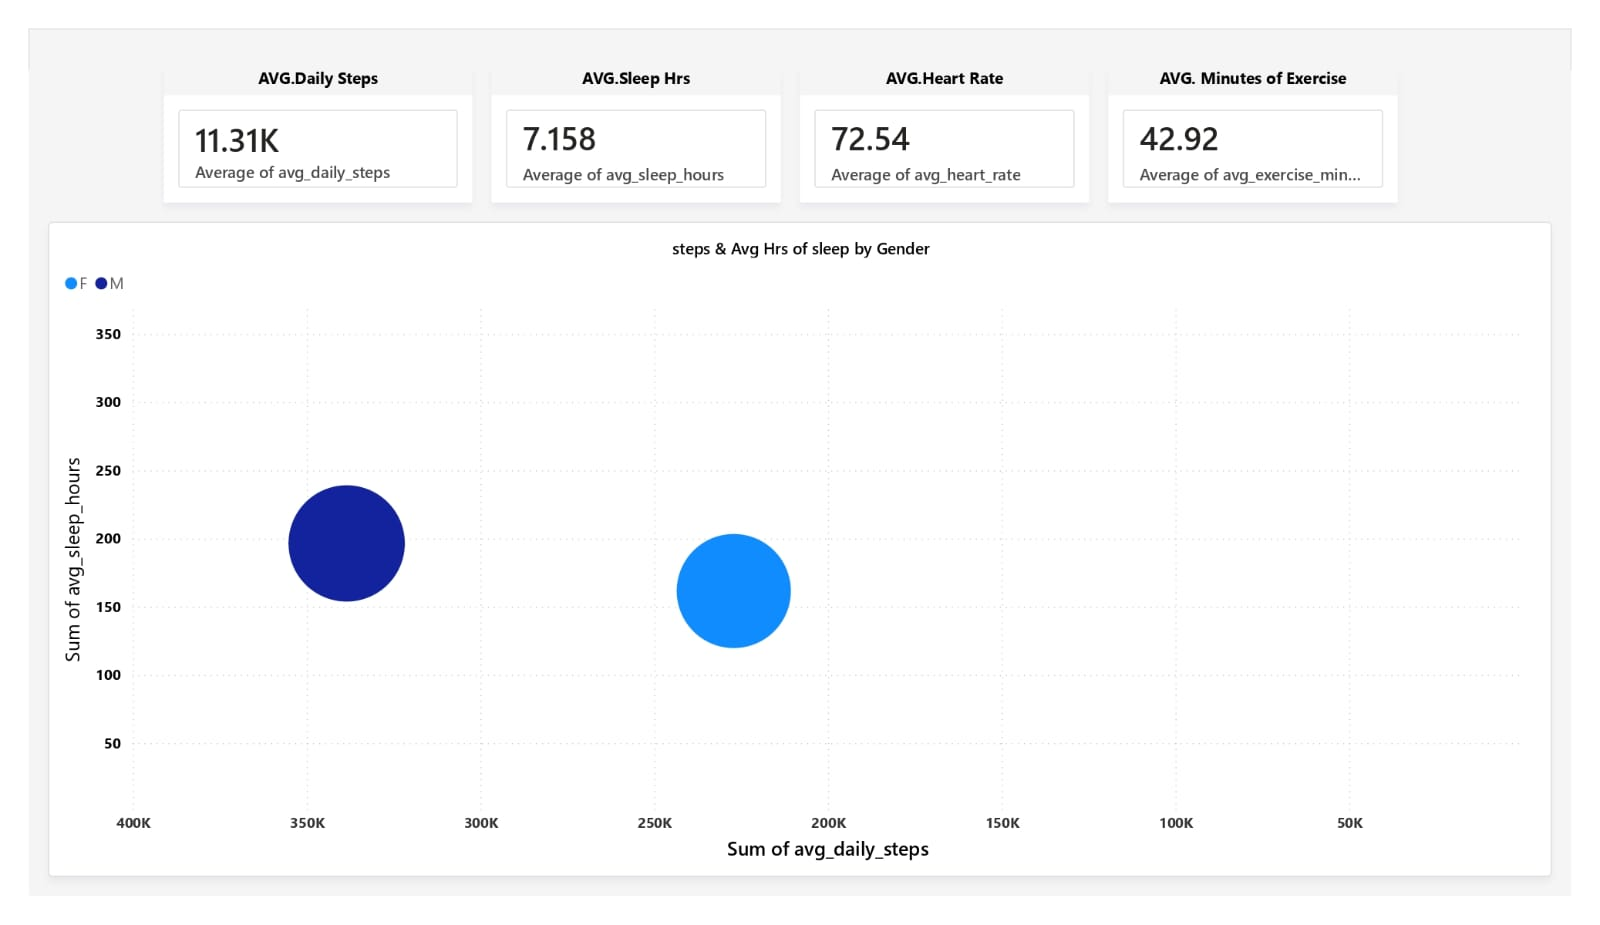

Layout of this report page (visuals, bound fields, positions):
{"tool":"powerbi","page":{"name":"Activity Analysis","canvas":[1280,720],"ordinal":1},"visuals":[{"type":"scatterChart","title":" steps & Avg Hrs of sleep by Gender","fields":{"X":["Sum(FactHealthMetrics.avg_daily_steps)"],"Category":["DimCustomer.gender"],"Y":["Sum(FactHealthMetrics.avg_sleep_hours)"],"Series":["DimCustomer.gender"],"Size":["CountNonNull(DimCustomer.user_id)"]},"box":[16,160,1248,544],"z":0},{"type":"cardVisual","title":"AVG.Daily Steps","fields":{"Data":["Avg(FactHealthMetrics.avg_daily_steps)"]},"box":[112,32,256,112],"z":1000},{"type":"cardVisual","title":"AVG.Sleep Hrs","fields":{"Data":["Avg(FactHealthMetrics.avg_sleep_hours)"]},"box":[384,32,240,112],"z":2000},{"type":"cardVisual","title":"AVG.Heart Rate","fields":{"Data":["Avg(FactHealthMetrics.avg_heart_rate)"]},"box":[640,32,240,112],"z":3000},{"type":"cardVisual","title":"AVG. Minutes of Exercise","fields":{"Data":["Avg(FactHealthMetrics.avg_exercise_minutes)"]},"box":[896,32,240,112],"z":4000}]}

Visuals, with their boxes in screenshot pixels (x1, y1, x2, y2), scaled from the page's 1280x720 canvas onto the 1600x925 screenshot:
" steps & Avg Hrs of sleep by Gender" scatterChart: rect(20, 206, 1580, 904)
"AVG.Daily Steps" cardVisual: rect(140, 41, 460, 185)
"AVG.Sleep Hrs" cardVisual: rect(480, 41, 780, 185)
"AVG.Heart Rate" cardVisual: rect(800, 41, 1100, 185)
"AVG. Minutes of Exercise" cardVisual: rect(1120, 41, 1420, 185)
